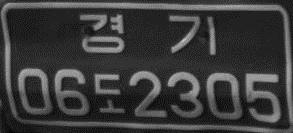0: (205, 72, 241, 120), (17, 68, 52, 115)
2: (128, 70, 167, 117)
3: (168, 71, 203, 118)
5: (244, 71, 282, 124)
6: (54, 68, 89, 116)
경기_D: (78, 13, 217, 56)
도: (93, 72, 126, 114)
